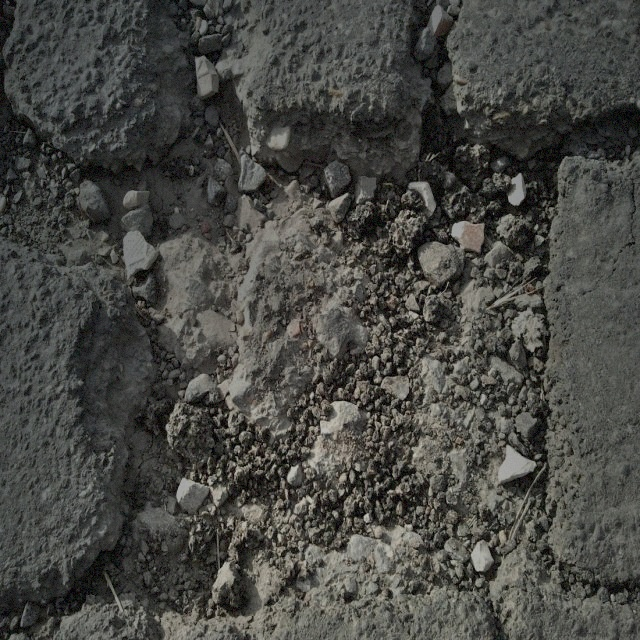pothole: (70, 71, 576, 596)
